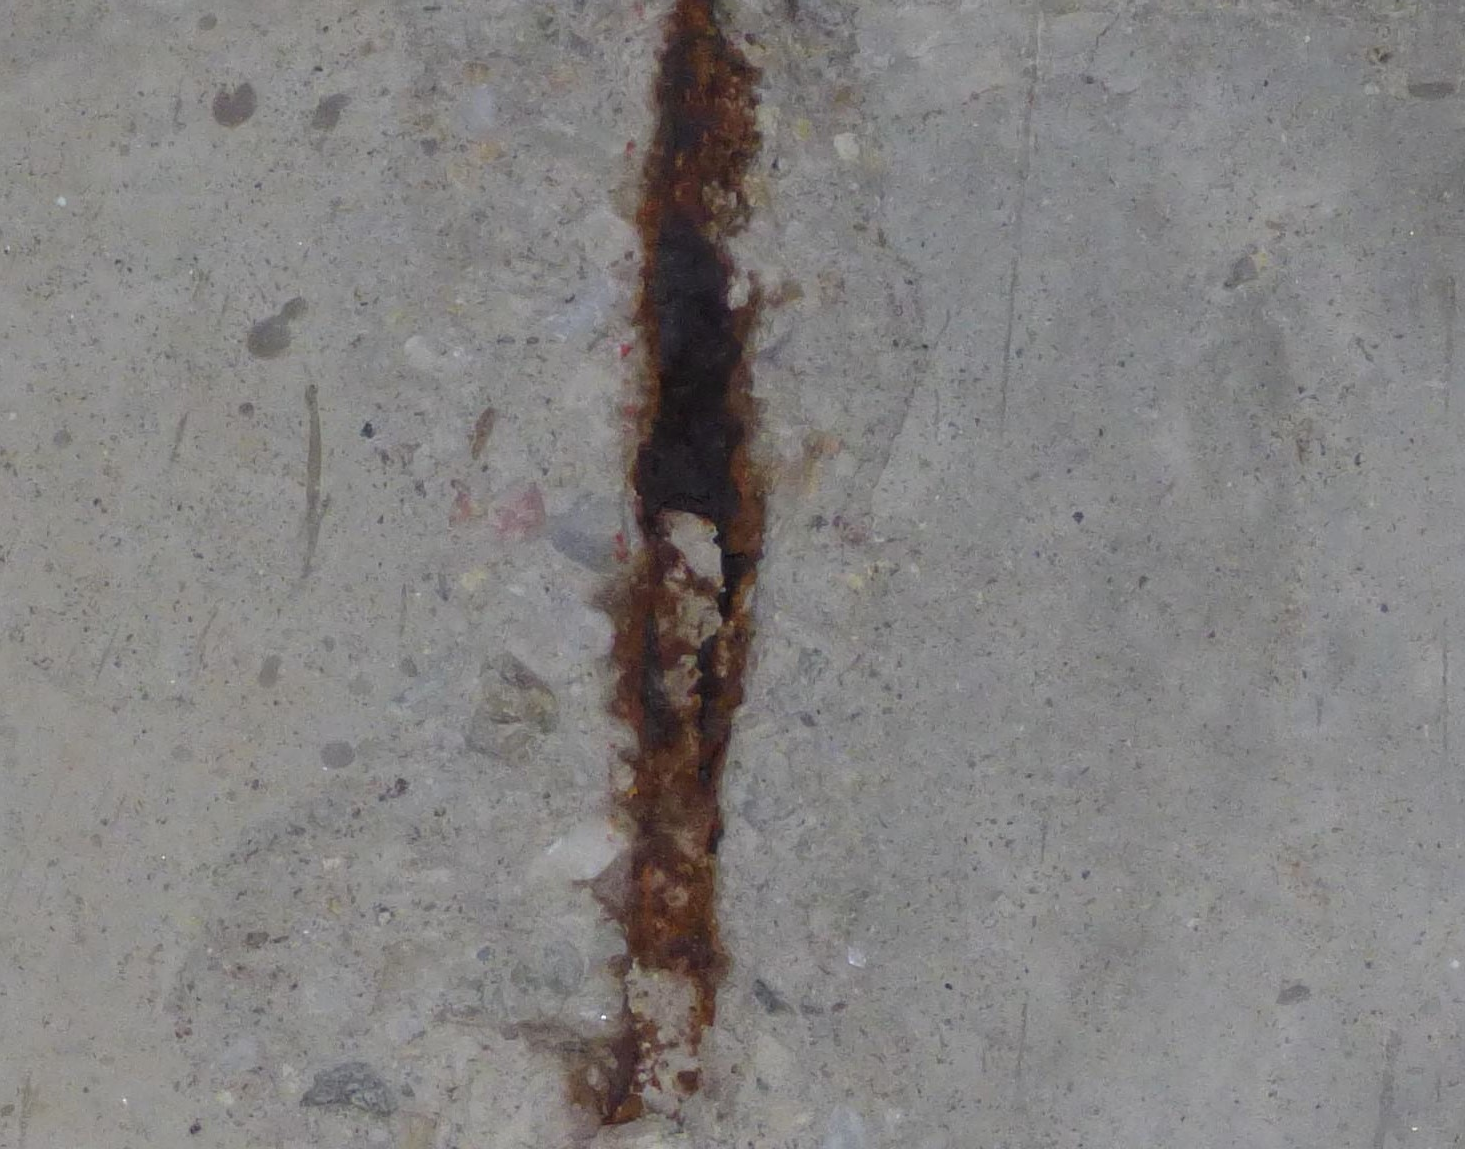Exposed reinforcement: (602, 1, 769, 1134)
